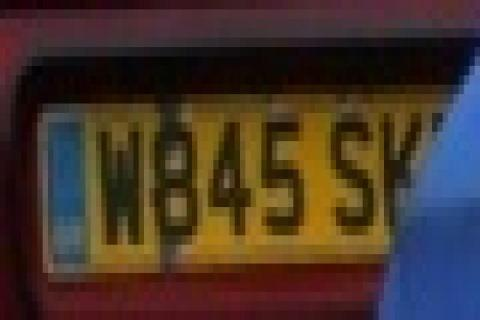LicensePlate: (23, 68, 381, 294)
